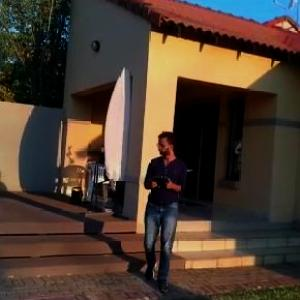follow: (140, 130, 189, 295)
